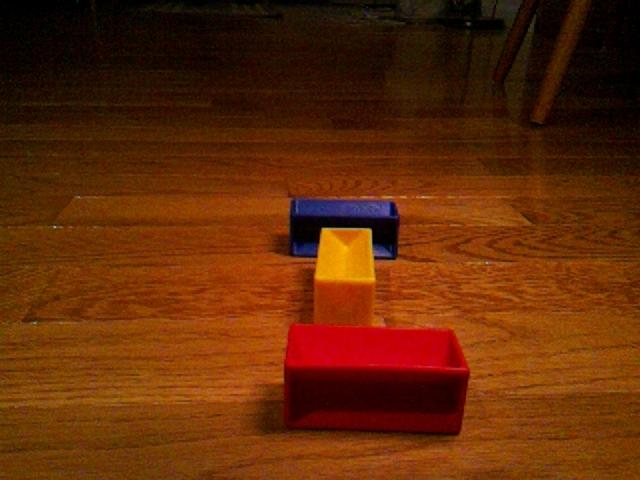blue: (288, 196, 401, 260)
red: (282, 321, 471, 436)
yellow: (312, 227, 377, 326)
